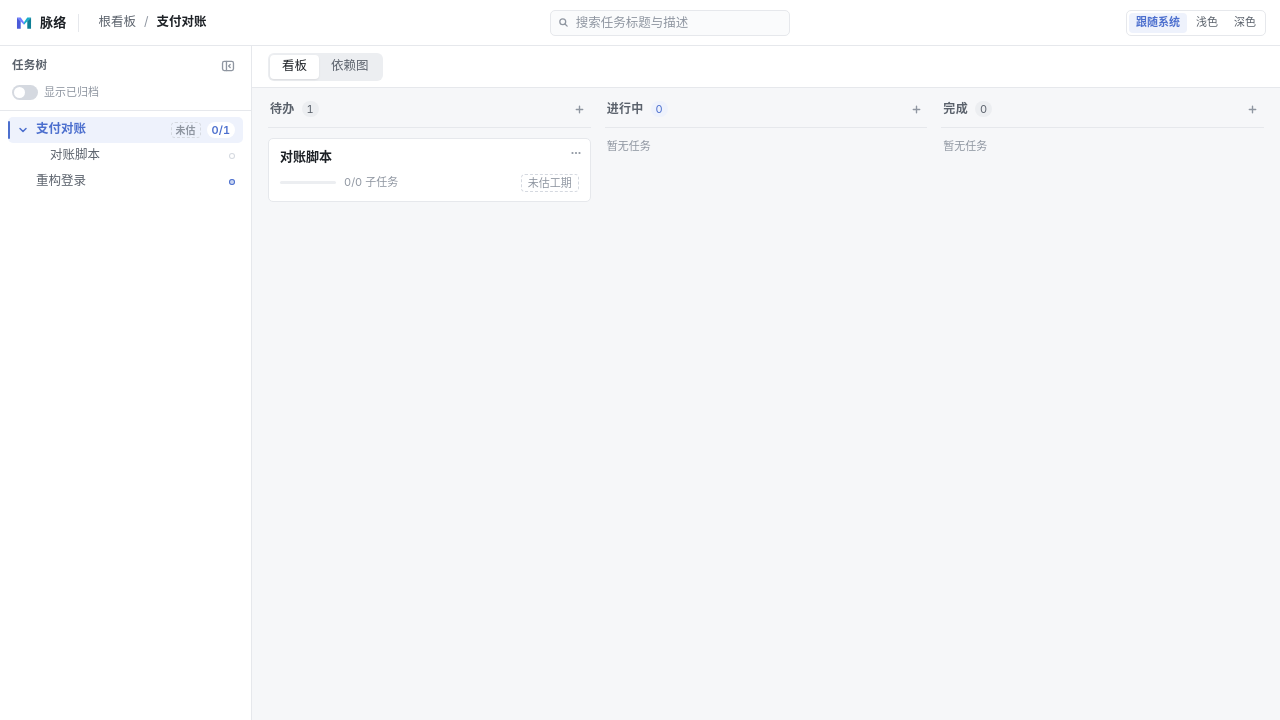
Test case: App 增删改 › 在某个任务的看板里新建的是它的子任务（parentId 是当前看板）
Expected: the text "对账脚本" is shown, [280,148,332,164]
Step 1. Click the button named "在「进行中」新建任务" → click(916, 109), box [907,100,925,118]
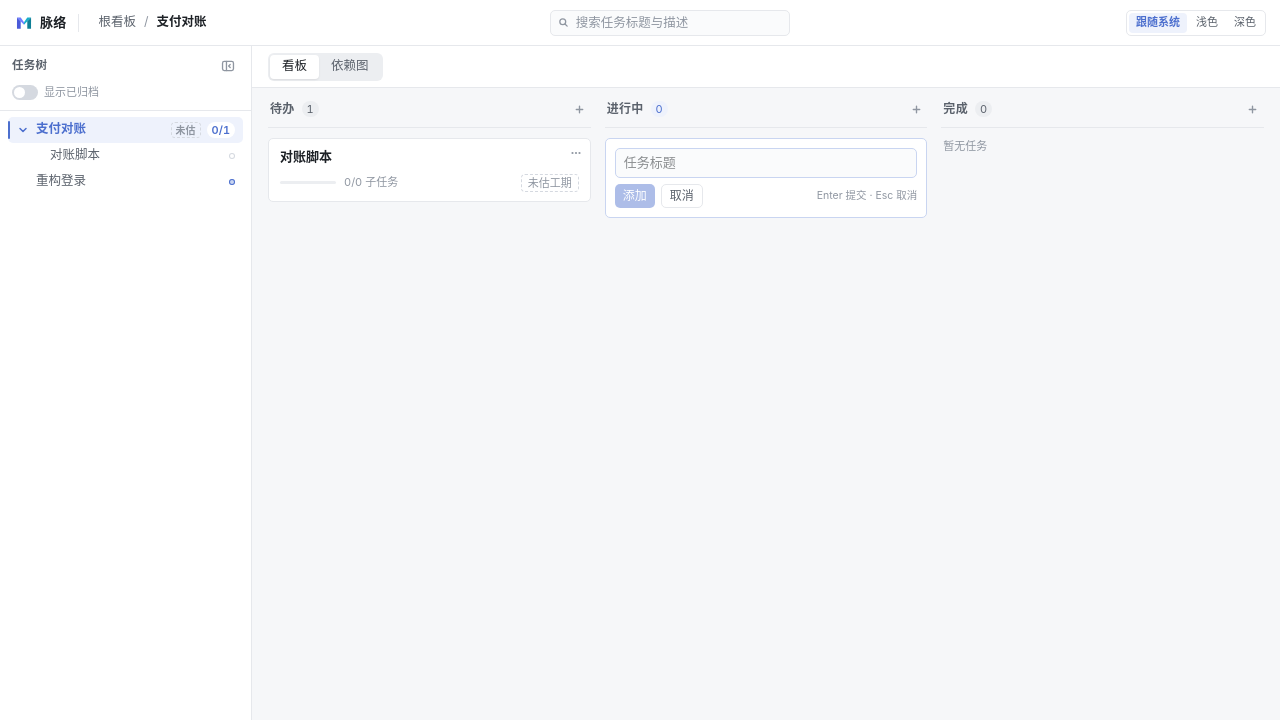
Step 2. Type "跑一次全量对账" into the field named "在「进行中」新建任务" → (766, 163), box [615,148,917,178]
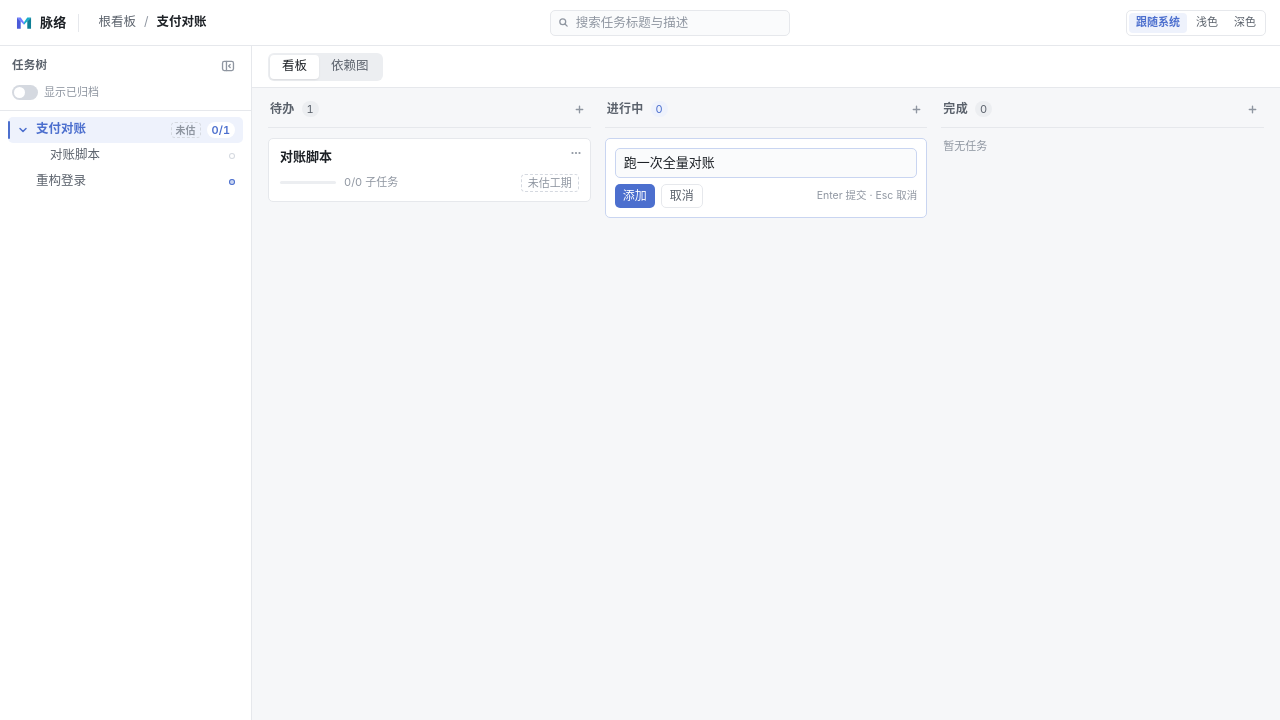
Step 3. Submit the form named "在「进行中」新建任务", box [605,138,927,218]
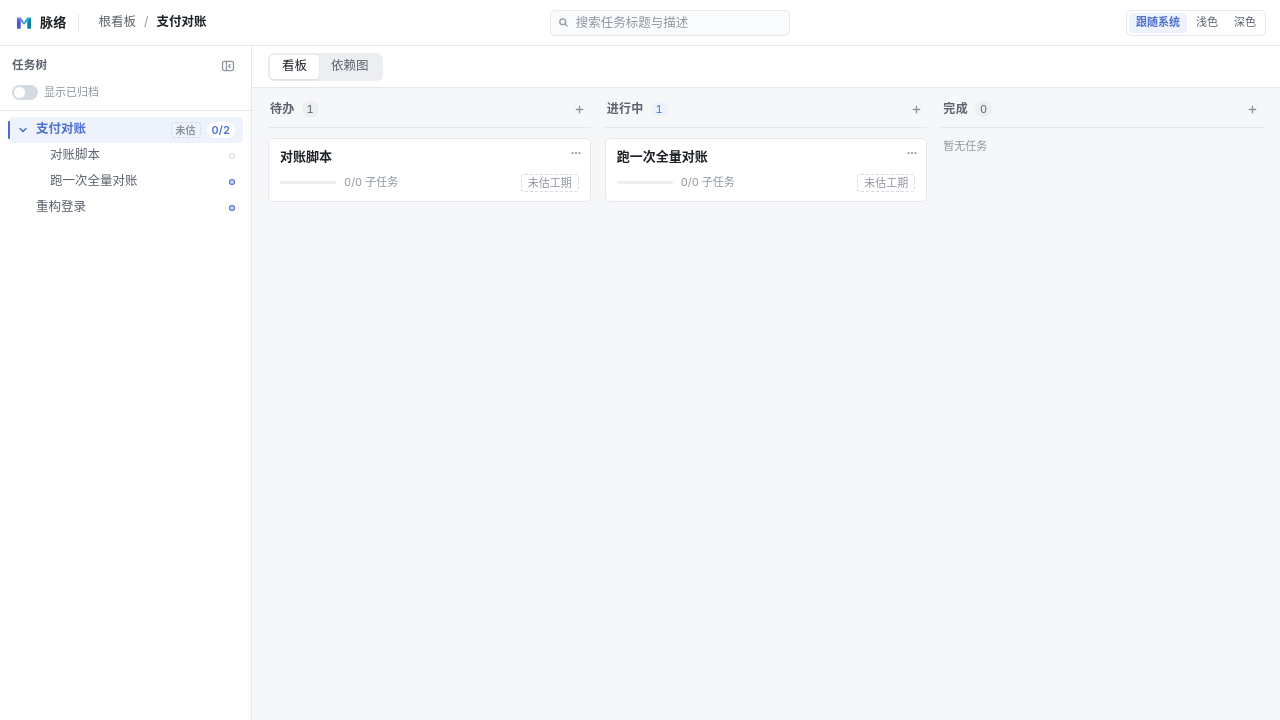
Now the text "跑一次全量对账" is shown, box [617,148,708,164]
